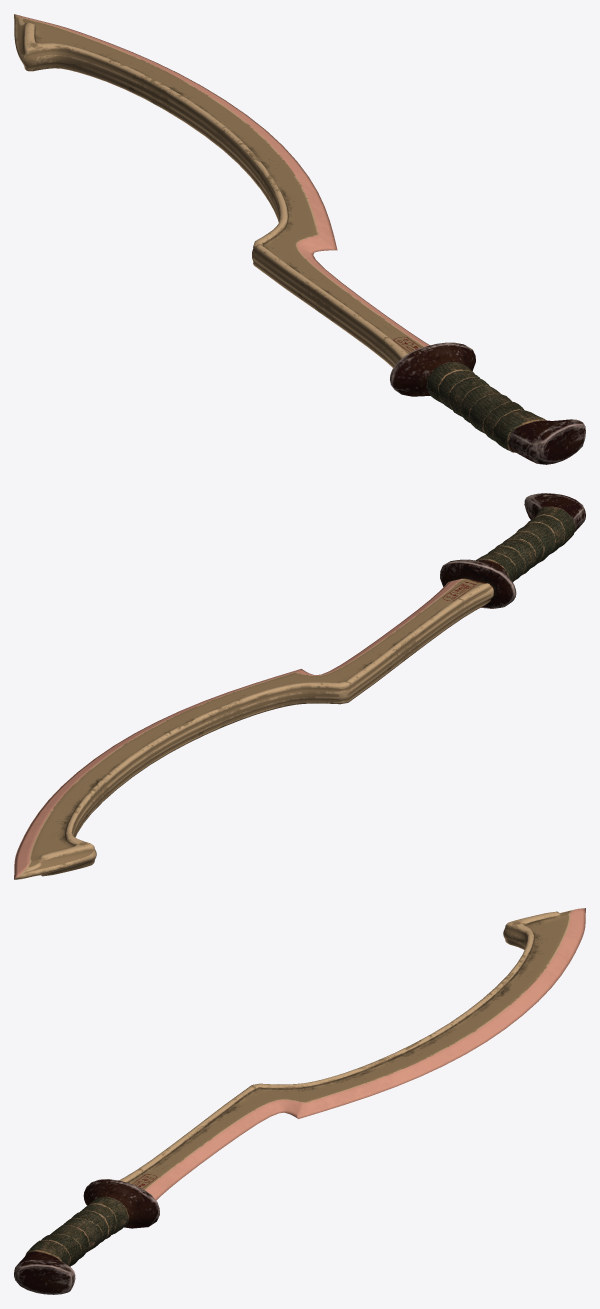
File: egyptian_khopesh.glb
3 renders of one model, top to bottom at view 1: azimuth 30°, elevation 25°; view 2: azimuth 150°, elevation 25°; view 3: azimuth 330°, elevation 25°, orthographic. The views are drawn at different scales.
Parts seen in each view (by area): view 1: Blade_lp1; view 2: Blade_lp1; view 3: Blade_lp1.
Boxes of the visible parts, x1,y1,x2,y2 form: Blade_lp1: (14, 14, 585, 464); Blade_lp1: (14, 493, 585, 879); Blade_lp1: (14, 908, 585, 1294).
Bounding box in the file's own units: 0.31 × 0.0881 × 1.91.
1 material, 1 textured.
